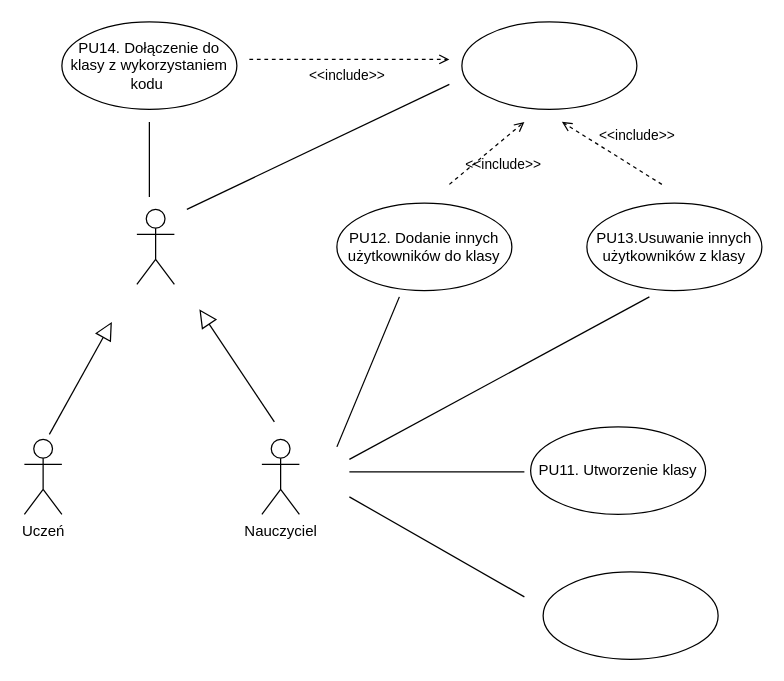
Image size: 784x681. Some labels were removed from this diagram. The centre of each missing label's shape, as x and y in pixels:
"PU10. Wgląd w swoje klasy" goes at pixel 549 65.
"PU15. Wgląd w kod klasy" goes at pixel 630 615.
"Użytkownik edukacyjny" goes at pixel 155 246.
